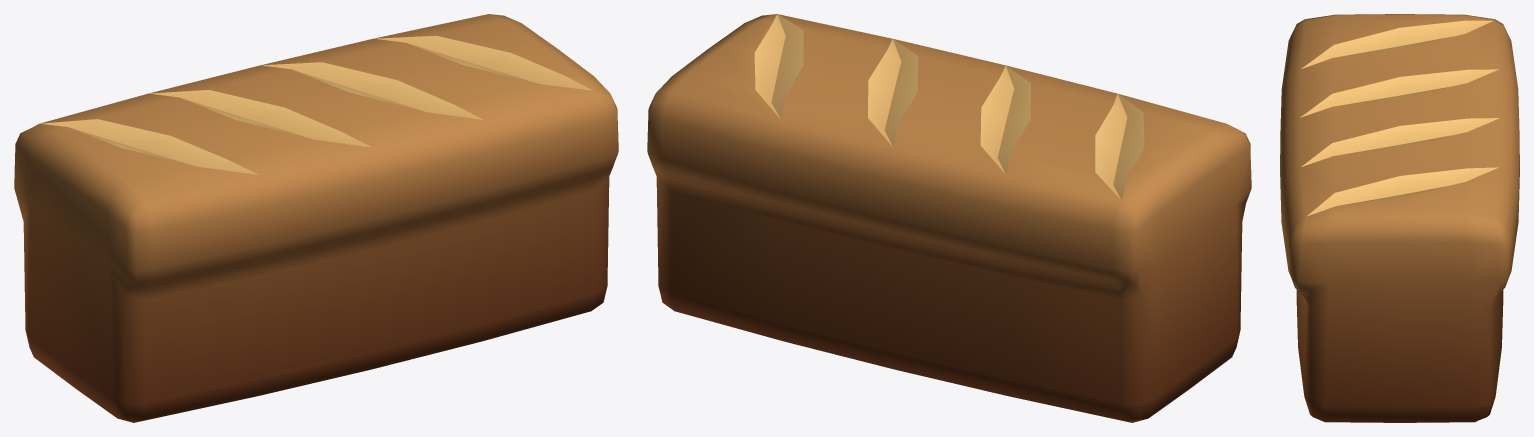
Rendered from Loaf_01.glb.
The picture shows the model from 3 angles, left to right: view 1: azimuth 30°, elevation 25°; view 2: azimuth 150°, elevation 25°; view 3: azimuth 270°, elevation 25°; orthographic projection. The views are drawn at different scales.
Visible parts, largest first — view 1: Loaf_01; view 2: Loaf_01; view 3: Loaf_01.
Boxes of the visible parts, bbox=[...] form: Loaf_01: bbox=[14, 14, 618, 422]; Loaf_01: bbox=[647, 14, 1251, 422]; Loaf_01: bbox=[1280, 14, 1519, 422].
Bounding box in the file's own units: 0.7738 × 0.3586 × 0.3641.
Materials: 1 (1 with a texture image).
